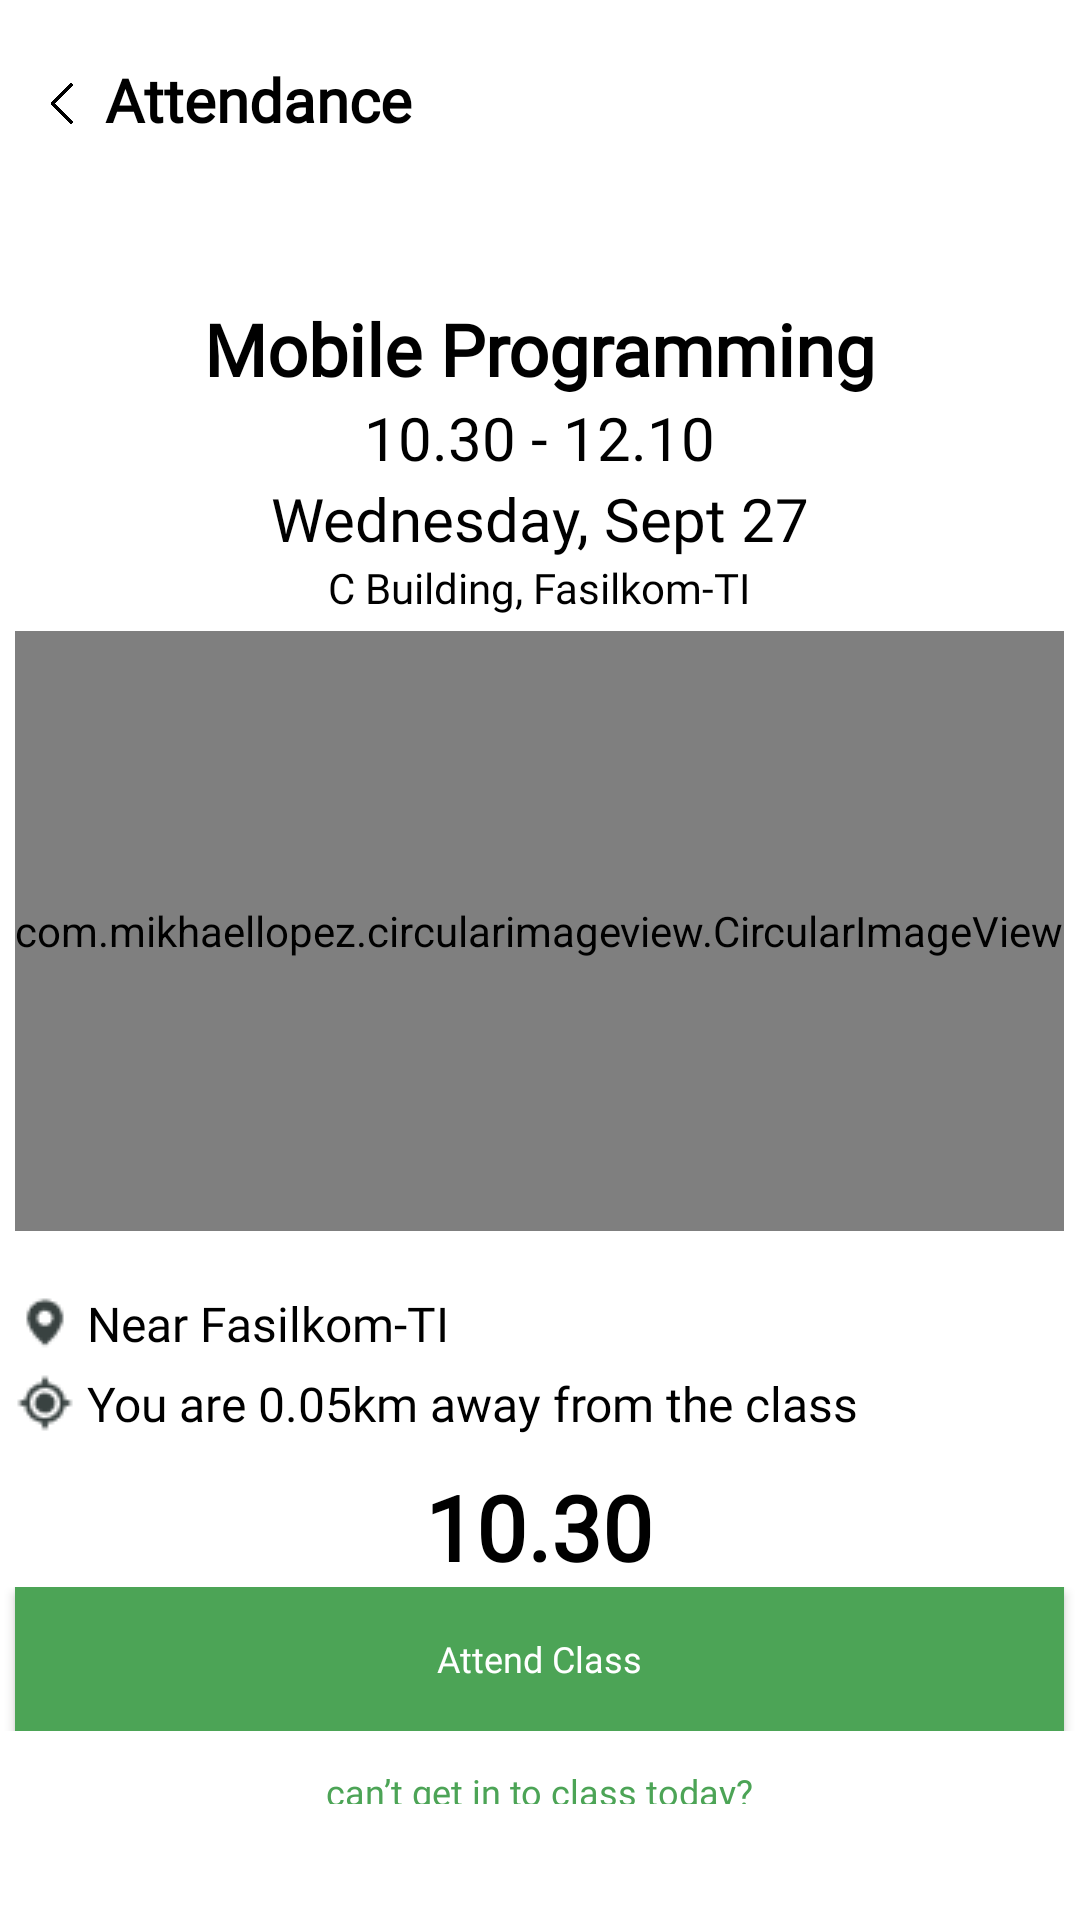

Icon click points for this 1080 × 1920 phone screenshot, format [x,y]:
back: [62,103]
